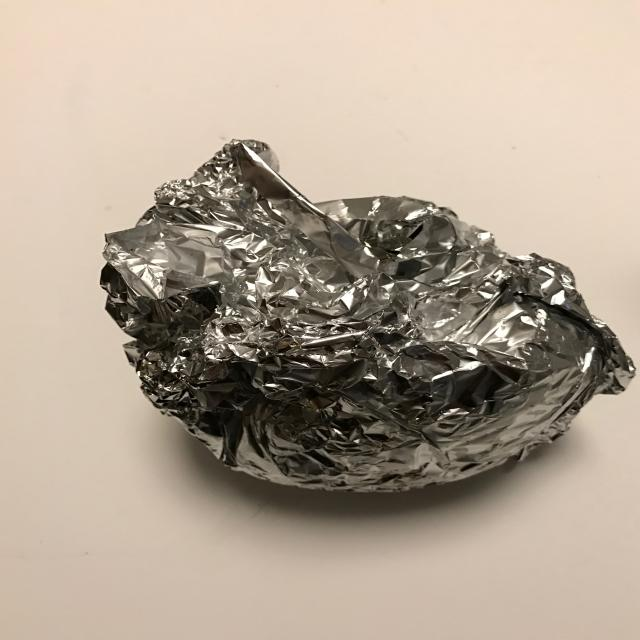metal: (99, 138, 636, 494)
